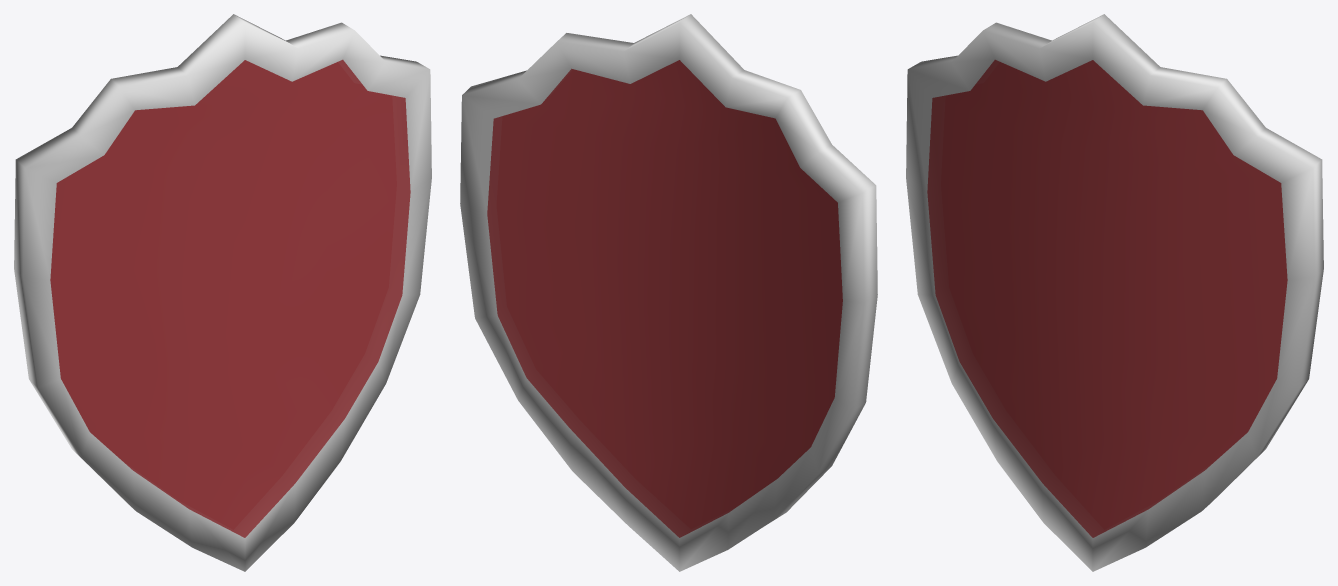
Rendered from shield_02.fbx.
3 renders of one model, left to right at view 1: azimuth 30°, elevation 25°; view 2: azimuth 150°, elevation 25°; view 3: azimuth 330°, elevation 25°, orthographic.
Visible parts, largest first — view 1: shield; view 2: shield; view 3: shield.
Part boxes in pixels (x1=…): shield: x1=14, y1=14, x2=431, y2=571; shield: x1=460, y1=14, x2=877, y2=571; shield: x1=906, y1=14, x2=1323, y2=571.
Bounding box in the file's own units: 185 × 238 × 22.74.
